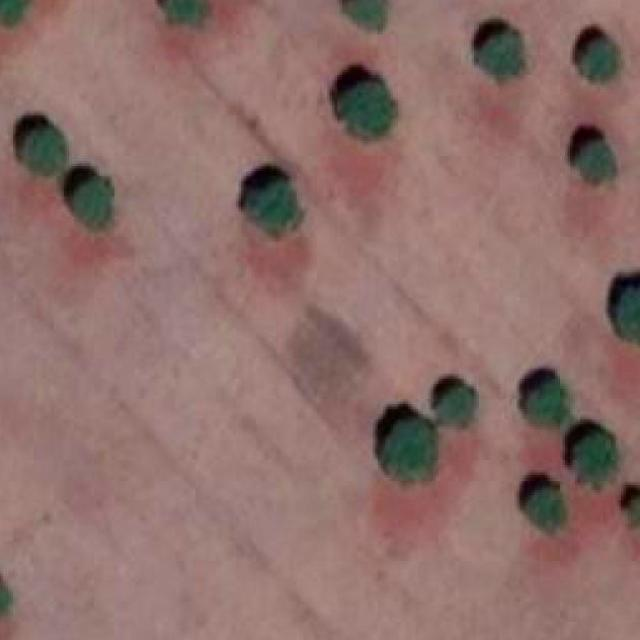Tree: (330, 80, 396, 136), (376, 419, 436, 480), (244, 179, 300, 240), (575, 427, 619, 488), (74, 171, 117, 227), (476, 34, 525, 83), (26, 124, 67, 174), (433, 387, 474, 430), (577, 139, 616, 182), (532, 488, 570, 532), (578, 42, 619, 80), (525, 384, 563, 422), (617, 282, 640, 338), (349, 0, 387, 32), (165, 0, 213, 24), (0, 0, 31, 22), (0, 579, 11, 620)
